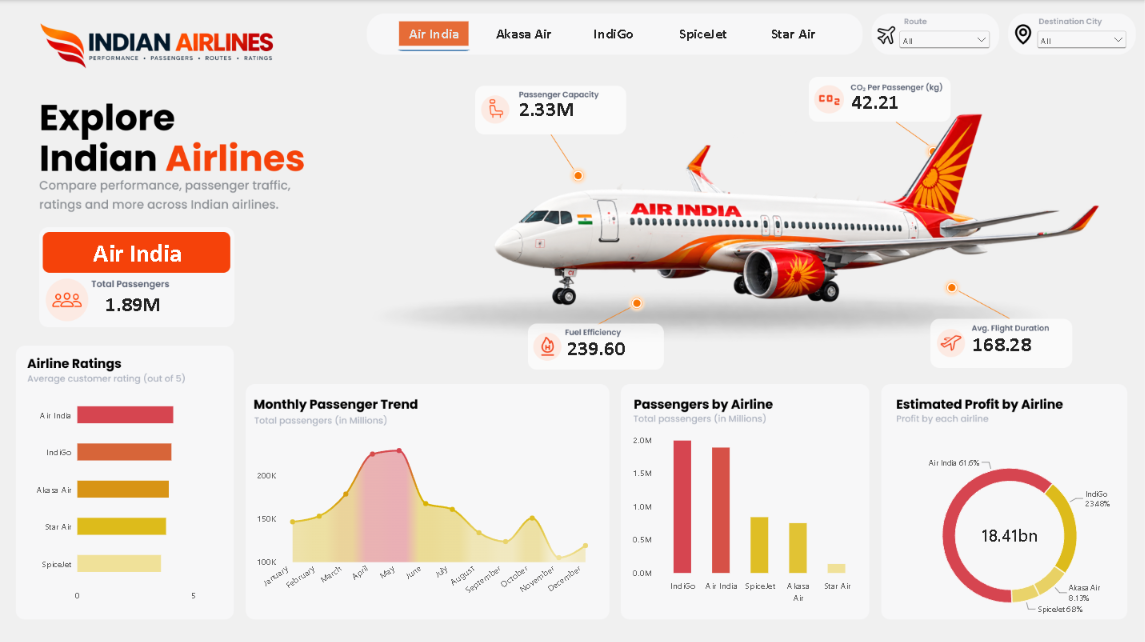

The dashboard page shown, as its layout file describes it:
{"tool":"powerbi","page":{"name":"Page 1","canvas":[1920,1080],"ordinal":0},"visuals":[{"type":"barChart","fields":{"Category":["Aircraft_Images.Airline"],"Y":["Avg(Flight_Data.Customer_Rating)"]},"box":[41.7,631.7,341.7,395],"z":0},{"type":"clusteredColumnChart","fields":{"Category":["Aircraft_Images.Airline"],"Y":["Sum(Flight_Data.Passengers)"]},"box":[1043.3,710,415,316.7],"z":1000},{"type":"lineChart","fields":{"Category":["Flight_Data.Actual_Departure.Variation.Date Hierarchy.Year","Flight_Data.Actual_Departure.Variation.Date Hierarchy.Quarter","Flight_Data.Actual_Departure.Variation.Date Hierarchy.Month"],"Y":["Sum(Flight_Data.Passengers)"]},"box":[411.7,713.3,601.7,313.3],"z":2000},{"type":"donutChart","fields":{"Category":["Aircraft_Images.Airline"],"Y":["Sum(Flight_Data.Estimated_Profit_INR)"]},"box":[1490,710,398,370],"z":3000},{"type":"advancedSlicerVisual","fields":{"Values":["Aircraft_Images.Airline"]},"box":[636.4,29.1,786.3,57.6],"z":4000},{"type":"image","box":[808.9,96.7,1039.5,510.5],"z":5000},{"type":"cardVisual","fields":{"Data":["Min(Flight_Data.Airline)"]},"box":[80,386.7,304,68],"z":6000},{"type":"cardVisual","fields":{"Data":["MeasuresTable.Total Passengers"]},"box":[146.7,476.7,156.7,63.3],"z":7000},{"type":"cardVisual","fields":{"Data":["MeasuresTable.Seat Capacity"]},"box":[854,151,160,63],"z":8000},{"type":"cardVisual","fields":{"Data":["MeasuresTable.CO2 Per Passenger"]},"box":[1410,138.3,163,63],"z":9000},{"type":"cardVisual","fields":{"Data":["MeasuresTable.Avg Flight Duration"]},"box":[1611,543,159,64],"z":10000},{"type":"cardVisual","fields":{"Data":["MeasuresTable.Fuel Efficiency"]},"box":[934,550,157,63],"z":11000},{"type":"slicer","fields":{"Values":["Flight_Data.Route"]},"box":[1500,46.7,161.1,40],"z":12000},{"type":"slicer","fields":{"Values":["Flight_Data.Destination_City"]},"box":[1730,46.7,158.3,40],"z":13000}]}

Visuals, with their boxes in screenshot pixels (x1, y1, x2, y2), scaled from the page's 1920x1080 canvas onto the 1145x642 screenshot:
barChart - Aircraft_Images.Airline x Avg(Flight_Data.Customer_Rating): BBox(25, 376, 229, 610)
clusteredColumnChart - Aircraft_Images.Airline x Sum(Flight_Data.Passengers): BBox(622, 422, 870, 610)
lineChart - Flight_Data.Actual_Departure.Variation.Date Hierarchy.Year x Flight_Data.Actual_Departure.Variation.Date Hierarchy.Quarter: BBox(246, 424, 604, 610)
donutChart - Aircraft_Images.Airline x Sum(Flight_Data.Estimated_Profit_INR): BBox(889, 422, 1126, 641)
advancedSlicerVisual - Aircraft_Images.Airline: BBox(380, 17, 848, 52)
image: BBox(482, 57, 1102, 361)
cardVisual - Min(Flight_Data.Airline): BBox(48, 230, 229, 270)
cardVisual - MeasuresTable.Total Passengers: BBox(87, 283, 181, 321)
cardVisual - MeasuresTable.Seat Capacity: BBox(509, 90, 605, 127)
cardVisual - MeasuresTable.CO2 Per Passenger: BBox(841, 82, 938, 120)
cardVisual - MeasuresTable.Avg Flight Duration: BBox(961, 323, 1056, 361)
cardVisual - MeasuresTable.Fuel Efficiency: BBox(557, 327, 651, 364)
slicer - Flight_Data.Route: BBox(895, 28, 991, 52)
slicer - Flight_Data.Destination_City: BBox(1032, 28, 1126, 52)
